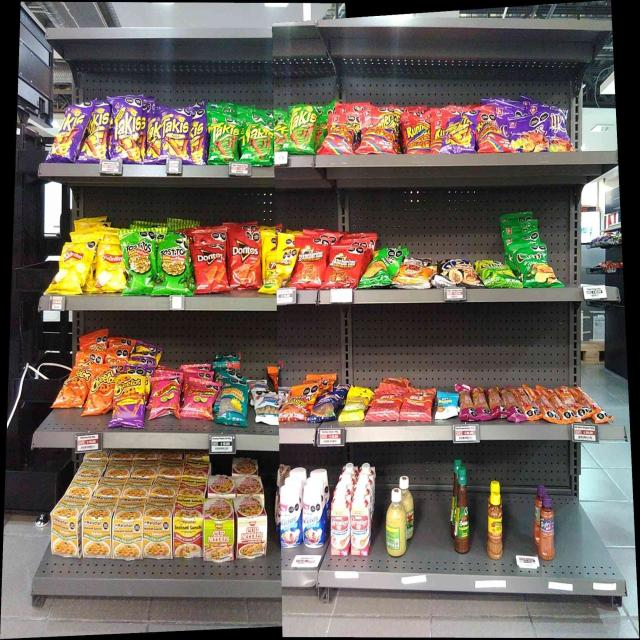bitzAlmendras: (437, 391, 457, 416)
bitzEnchilado90: (405, 391, 431, 423), (372, 392, 399, 422)
bitzEnchilado95: (587, 387, 601, 423), (552, 392, 568, 422), (521, 390, 535, 420), (570, 386, 582, 418), (538, 391, 550, 420)
bitzHabanero: (458, 385, 473, 419), (474, 387, 488, 420), (489, 386, 502, 419), (504, 386, 515, 422)
bokadosCacahuates: (317, 392, 339, 423)
botaneraChilito: (486, 490, 504, 561)
cheetosFlaminHot: (115, 371, 144, 426)
cheetosOriginal: (66, 368, 90, 405), (92, 368, 110, 409)
chipsFuego: (509, 121, 549, 153), (550, 110, 568, 151)
chipsJalapeno: (519, 245, 551, 284)
chipsPapatinas: (480, 256, 517, 287)
churrumais: (184, 378, 214, 416), (152, 378, 180, 417)
delPrimoSalsa: (384, 486, 408, 556)
doritosNacho: (231, 236, 259, 286), (196, 246, 226, 290)
fritosLimon: (276, 254, 294, 288)
leoCacahuates: (254, 389, 278, 424)
leoMix: (283, 390, 315, 420)
maruchanPollo: (144, 496, 172, 558), (85, 497, 112, 560), (52, 502, 82, 558), (115, 498, 142, 558)
maruchanRes: (175, 501, 203, 557)
nestleCarnation: (350, 495, 372, 556), (330, 495, 349, 557)
nestleLechera: (302, 482, 326, 548), (280, 485, 301, 547)
nissinCamaron: (204, 506, 232, 560)
nissinRes: (238, 502, 266, 558)
popKarameladas: (439, 257, 477, 287)
rancheritos: (328, 249, 358, 288), (297, 244, 324, 287)
rufflesQueso: (365, 250, 400, 287)
runners: (364, 109, 394, 151), (328, 119, 358, 153), (405, 116, 430, 150), (477, 120, 502, 152), (433, 118, 443, 152)
sabritasOriginal: (55, 246, 86, 294), (100, 247, 124, 289)
salsaBufalo: (453, 465, 471, 554)
semillasCalabaza: (343, 389, 370, 422)
semillasGirasol: (221, 381, 249, 427)
tajinDulce: (536, 494, 556, 561)
takisFuego: (113, 101, 141, 163), (164, 112, 190, 163), (61, 108, 86, 158), (88, 105, 110, 158), (448, 115, 475, 153), (192, 116, 206, 165), (148, 116, 162, 161)
takisOriginal: (242, 122, 274, 164), (289, 105, 316, 153), (209, 116, 237, 161), (274, 120, 287, 148)
tostitos: (125, 236, 155, 288), (161, 244, 188, 292)
